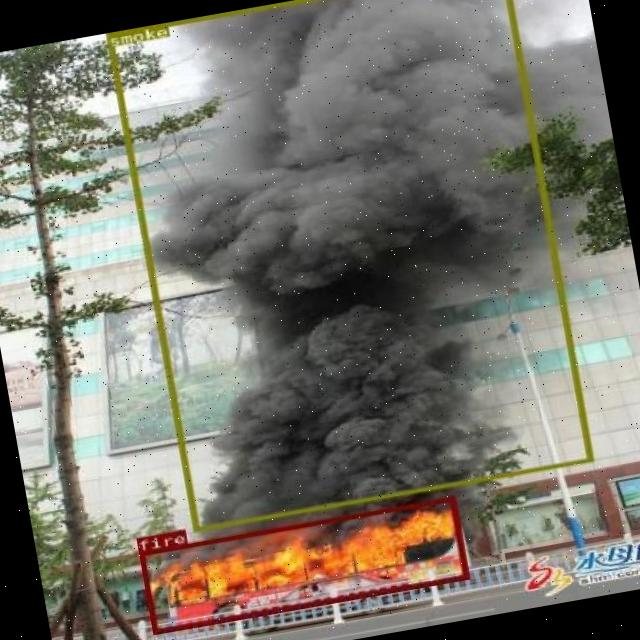smoke: (104, 0, 592, 530)
